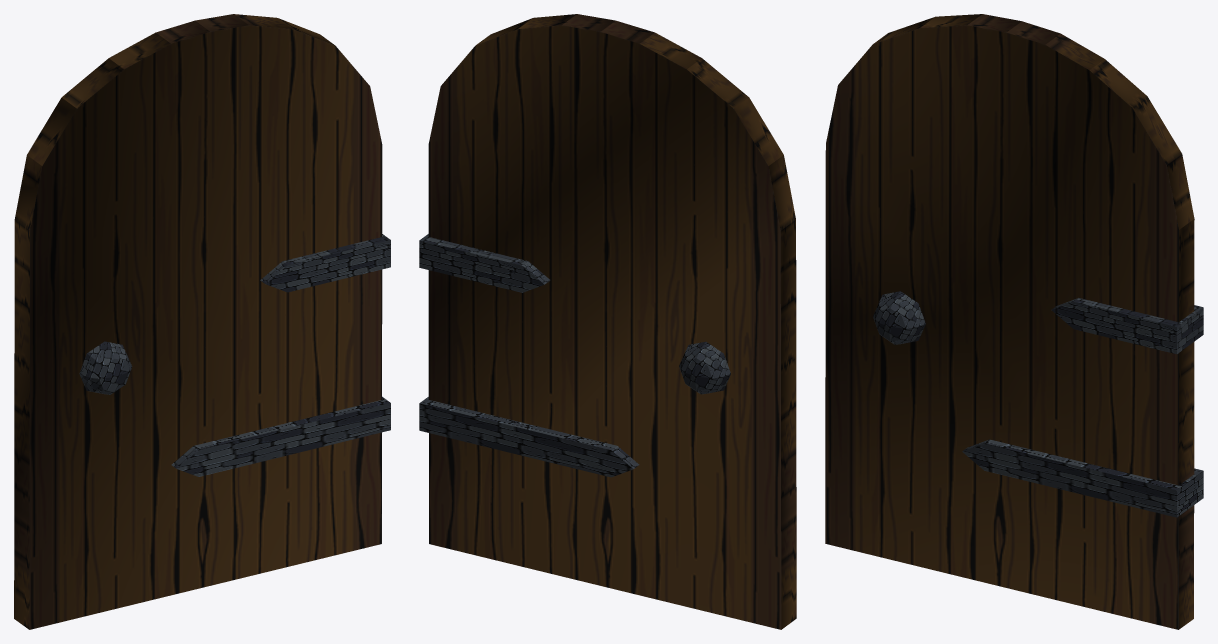
The model's file is Door.fbx.
3 views of the same model, side by side, from view 1: azimuth 30°, elevation 25°; view 2: azimuth 150°, elevation 25°; view 3: azimuth 330°, elevation 25° (orthographic).
Visible parts, largest first — view 1: Door; view 2: Door; view 3: Door.
Part boxes in pixels (bbox=[...]): Door: bbox=[14, 14, 390, 629]; Door: bbox=[419, 14, 796, 629]; Door: bbox=[825, 14, 1203, 629].
Size of the model in its own units: 1.34 by 0.2552 by 1.99.
Materials: 1 (1 with a texture image).
